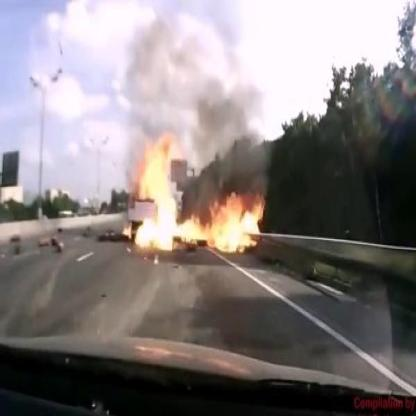fire: (120, 127, 268, 264)
